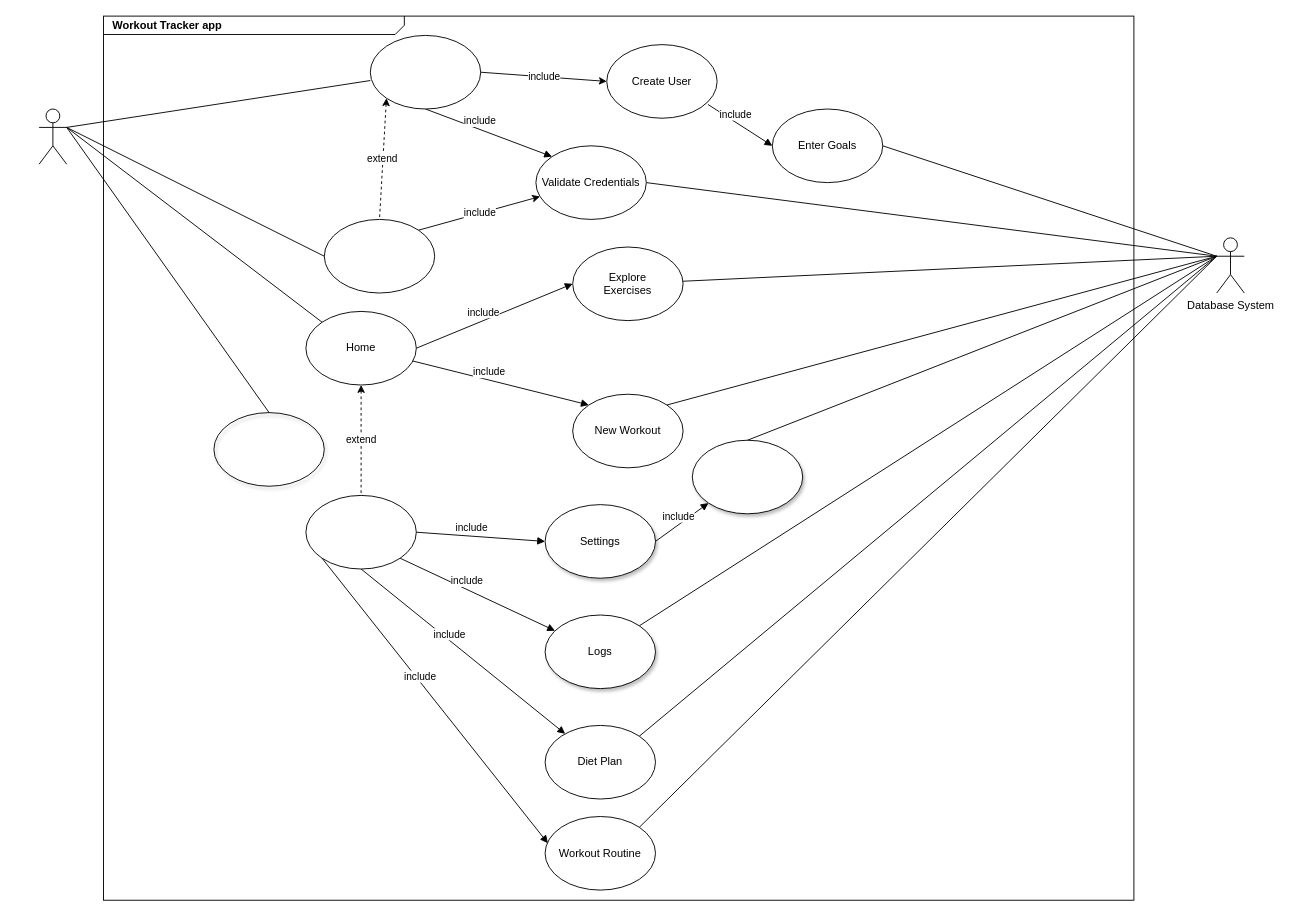
Image size: 1290x916. Some labels were removed from this diagram. The shapes that lost their labels are listed below. From the top down, each one's centre as x and y in pixels, then its label:
At pixel 425 71: "SignUp".
At pixel 52 136: "User/Customer".
At pixel 379 255: "Login".
At pixel 269 450: "Logout".
At pixel 748 478: "Profile".
At pixel 360 531: "Navigation".
